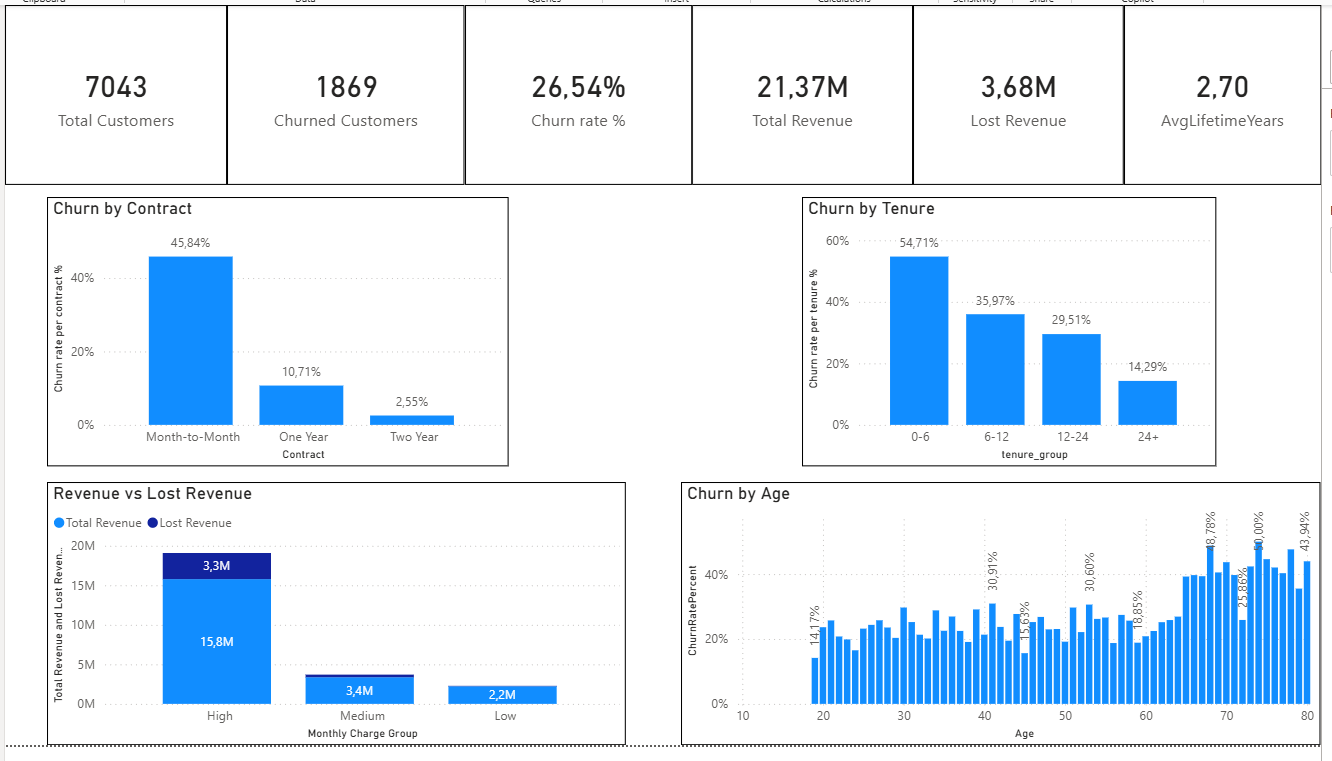

What the dashboard file says about the page in this screenshot:
{"tool":"powerbi","page":{"name":"Overview","canvas":[1280,720],"ordinal":0},"visuals":[{"type":"card","fields":{"Values":["Sum(01_Overview.total_customers)"]},"box":[0,0,215.9,175.1],"z":0},{"type":"card","fields":{"Values":["Sum(01_Overview.churned_customers)"]},"box":[215.9,0,231.5,175.1],"z":1000},{"type":"card","fields":{"Values":["Sum(01_Overview.total_revenue)"]},"box":[668.2,0,215,175.1],"z":2000},{"type":"card","fields":{"Values":["01_Overview.Churn rate %"]},"box":[447.4,0,220.8,175.1],"z":3000},{"type":"card","fields":{"Values":["Sum(01_Overview.lost_revenue)"]},"box":[883.2,0,205.2,175.1],"z":4000},{"type":"clusteredColumnChart","title":"Churn by Contract","fields":{"Category":["02_Contract.Contract"],"Y":["02_Contract.Churn rate per contract %"]},"box":[40.9,186.7,449.4,261.6],"z":5000},{"type":"clusteredColumnChart","title":"Churn by Tenure","fields":{"Category":["06_Tenure.tenure_group"],"Y":["06_Tenure.Churn rate per tenure %"]},"box":[775.2,186.7,402.7,261.6],"z":6000},{"type":"columnChart","title":"Revenue vs Lost Revenue","fields":{"Category":["04_Revenue.monthly_charge_group"],"Y":["Sum(04_Revenue.total_revenue)","Sum(04_Revenue.lost_revenue)"]},"box":[40.9,464,563.2,255.8],"z":7000},{"type":"card","fields":{"Values":["telco_features.AvgLifetimeYears"]},"box":[1088.4,0,191.6,175.1],"z":8000},{"type":"columnChart","title":"Churn by Age","fields":{"Y":["telco_features.ChurnRatePercent"],"Category":["telco_features.Age"]},"box":[657.5,464,622.5,255.8],"z":8001}]}

Visuals, with their boxes in screenshot pixels (x1, y1, x2, y2):
card - Sum(01_Overview.total_customers): <bbox>3, 0, 225, 180</bbox>
card - Sum(01_Overview.churned_customers): <bbox>225, 0, 463, 180</bbox>
card - Sum(01_Overview.total_revenue): <bbox>689, 0, 910, 180</bbox>
card - 01_Overview.Churn rate %: <bbox>463, 0, 689, 180</bbox>
card - Sum(01_Overview.lost_revenue): <bbox>910, 0, 1120, 180</bbox>
"Churn by Contract" clusteredColumnChart: <bbox>45, 192, 507, 460</bbox>
"Churn by Tenure" clusteredColumnChart: <bbox>799, 192, 1212, 460</bbox>
"Revenue vs Lost Revenue" columnChart: <bbox>45, 476, 623, 739</bbox>
card - telco_features.AvgLifetimeYears: <bbox>1120, 0, 1317, 180</bbox>
"Churn by Age" columnChart: <bbox>678, 476, 1317, 739</bbox>
